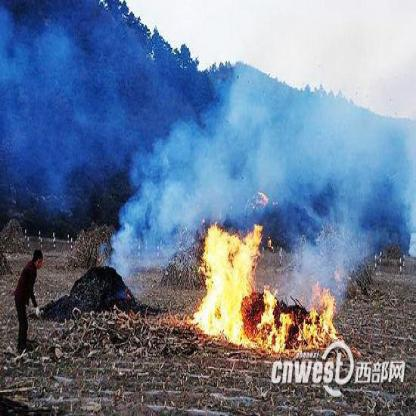fire: (200, 214, 336, 352)
